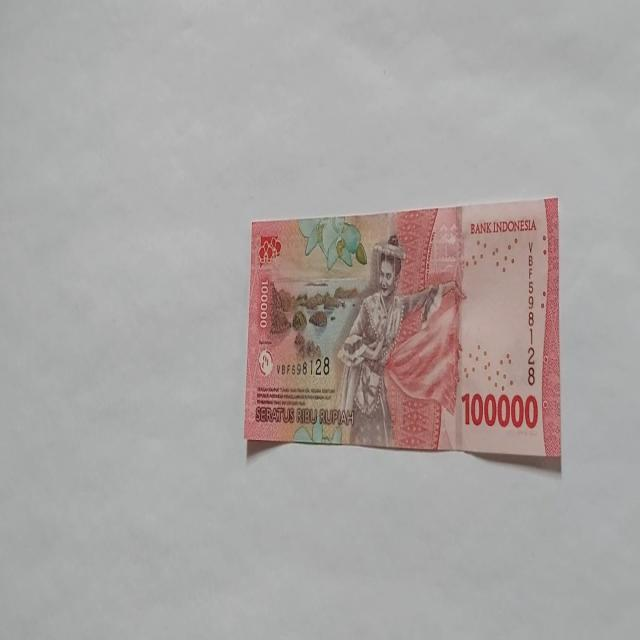seratus ribu rupiah: (243, 196, 561, 468), (334, 233, 452, 449)
